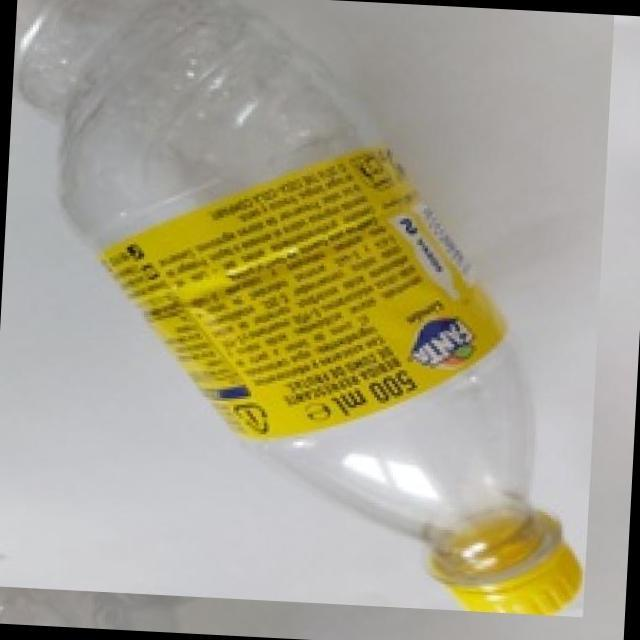good: (0, 0, 613, 617)
